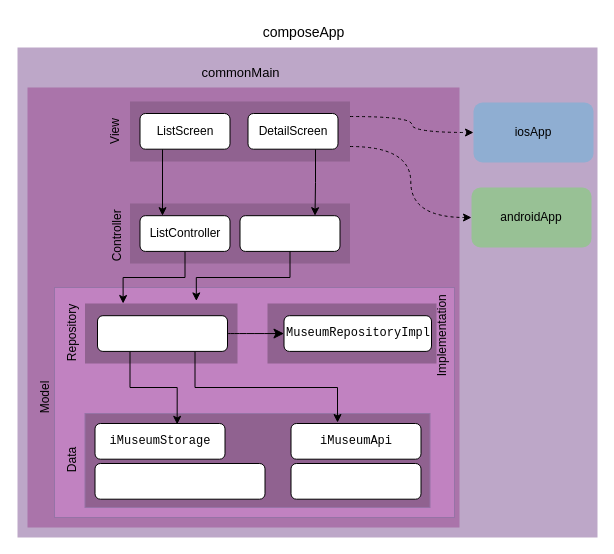
Some shapes in this 614 by 554 pixel diagram are drawn without their labels. Here are the shapes that lost their labels. From the top down, the centre of each, then its label:
At (289,233): "DetailController".
At (162,333): "MuseumRepository".
At (179,480): "InMemoryMuseumStorage".
At (355,480): "KtorMuseumApi".
